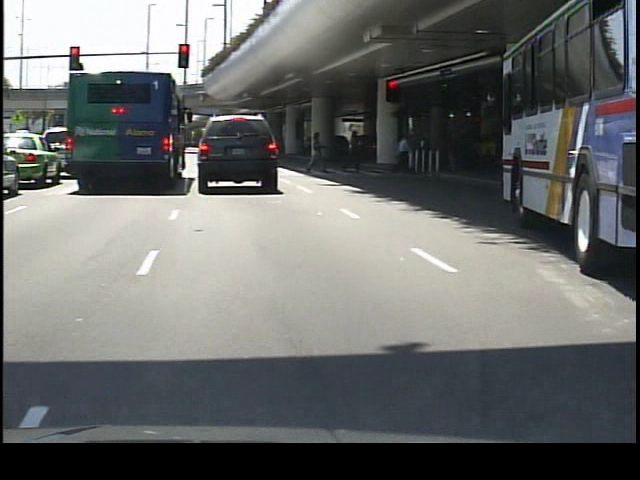person: (345, 126, 367, 179), (307, 125, 329, 174), (393, 130, 413, 174)
